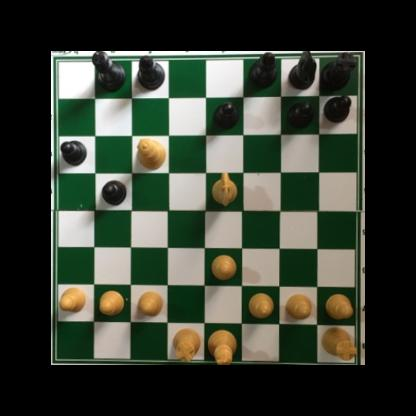black-bishop: (136, 53, 166, 92), (248, 52, 277, 88)
black-king: (90, 52, 125, 93)
black-knight: (289, 52, 318, 92)
black-pawn: (323, 93, 351, 124), (59, 139, 87, 167), (212, 101, 238, 130), (286, 101, 312, 130), (101, 179, 127, 206)
black-rook: (320, 52, 355, 92)
white-king: (205, 329, 237, 365)
white-knight: (211, 170, 237, 209)
white-pawn: (57, 284, 87, 313), (97, 288, 125, 317), (136, 289, 164, 317), (210, 253, 237, 282), (323, 294, 353, 320), (284, 294, 313, 320), (248, 292, 274, 319)
white-queen: (134, 136, 168, 169)
white-rook: (318, 324, 357, 361), (170, 329, 200, 363)
